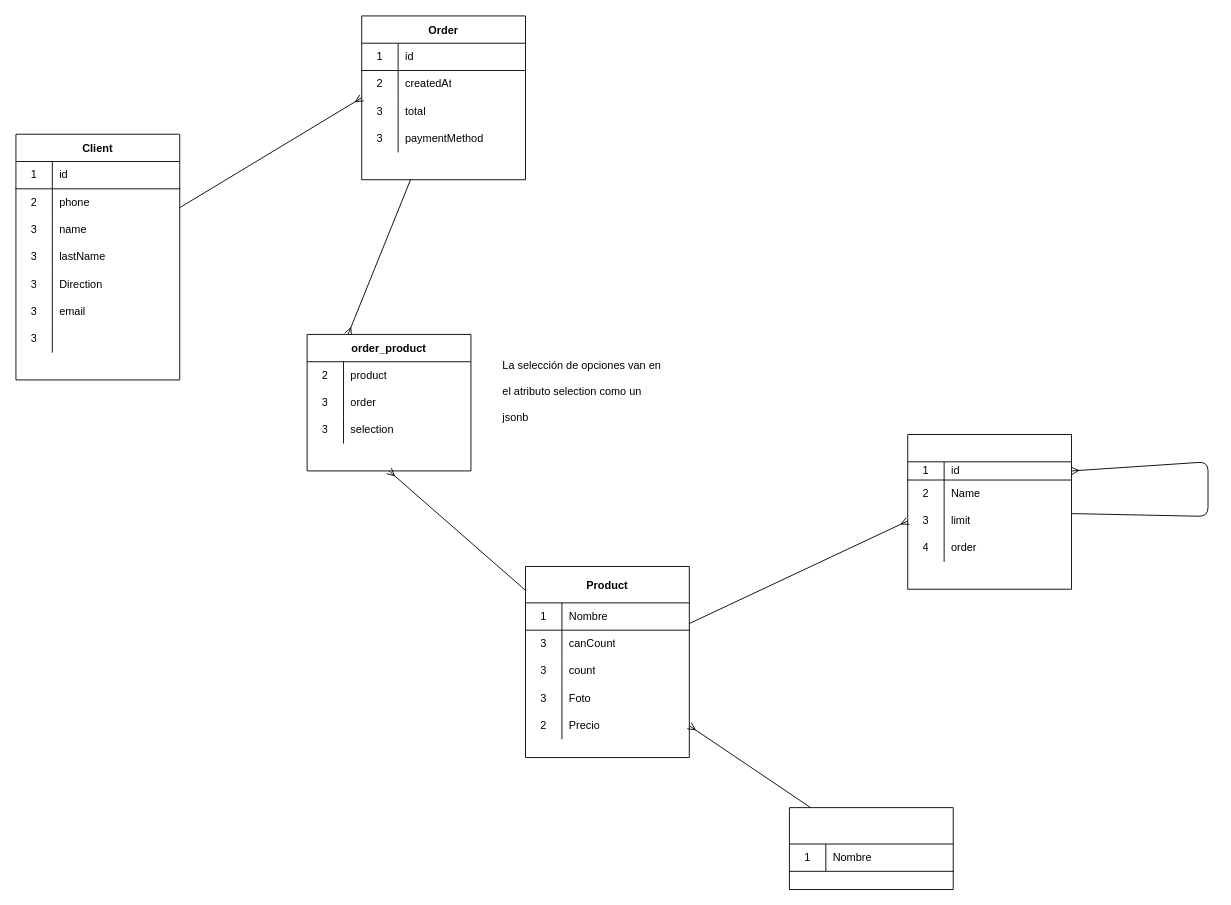
This 1231x905 diagram has some shape labels left out. The shapes that lost their labels are listed below. From the top down, each one's box as (x1, y1, x2, y2) in pixels, then its label:
(907, 434, 1072, 589): Options
(789, 807, 953, 890): Category
